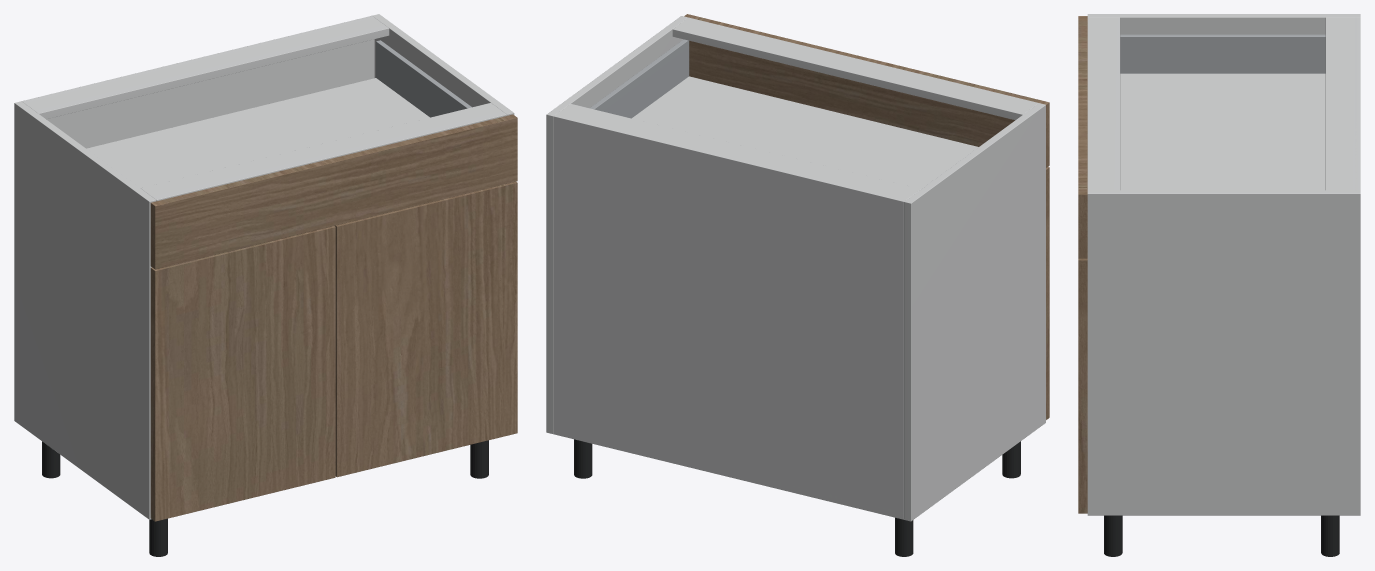
Rendered from oppein-pb-mnw-b36.glb.
The picture shows the model from 3 angles, left to right: view 1: azimuth 30°, elevation 25°; view 2: azimuth 150°, elevation 25°; view 3: azimuth 270°, elevation 25°; orthographic projection.
Parts seen in each view (by area): view 1: Door, Door.001, Cabinet side, Drawer front, Drawer floor, Cabinet back, Top support rail, Top support rail.001, Drawer side.001, Cabinet side.001, Adjustable foot.001, Adjustable foot.003; view 2: Cabinet back, Cabinet side, Drawer floor, Drawer front, Top support rail.001, Cabinet side.001, Top support rail, Drawer side.001, Door, Adjustable foot, Adjustable foot.002; view 3: Cabinet side.001, Drawer floor, Drawer side, Top support rail.001, Top support rail, Cabinet side, Door.001, Drawer front, Cabinet back, Adjustable foot.003, Adjustable foot.002.
Boxes of the visible parts, x1=… form: Door: x1=150, y1=226, x2=335, y2=521; Door.001: x1=335, y1=181, x2=517, y2=477; Cabinet side: x1=14, y1=101, x2=156, y2=519; Drawer front: x1=150, y1=114, x2=517, y2=269; Drawer floor: x1=86, y1=78, x2=429, y2=188; Cabinet back: x1=21, y1=15, x2=374, y2=148; Top support rail: x1=23, y1=17, x2=389, y2=119; Top support rail.001: x1=141, y1=103, x2=506, y2=201; Drawer side.001: x1=376, y1=40, x2=471, y2=117; Cabinet side.001: x1=372, y1=14, x2=514, y2=115; Adjustable foot.001: x1=149, y1=518, x2=167, y2=556; Adjustable foot.003: x1=470, y1=440, x2=488, y2=478; Cabinet back: x1=553, y1=114, x2=905, y2=519; Cabinet side: x1=904, y1=103, x2=1045, y2=521; Drawer floor: x1=632, y1=76, x2=978, y2=188; Drawer front: x1=684, y1=14, x2=1049, y2=167; Top support rail.001: x1=672, y1=17, x2=1038, y2=120; Cabinet side.001: x1=546, y1=16, x2=688, y2=434; Top support rail: x1=556, y1=104, x2=920, y2=199; Drawer side.001: x1=590, y1=39, x2=689, y2=118; Door: x1=1046, y1=167, x2=1049, y2=419; Adjustable foot: x1=895, y1=517, x2=913, y2=556; Adjustable foot.002: x1=574, y1=439, x2=592, y2=478; Cabinet side.001: x1=1087, y1=190, x2=1360, y2=515; Drawer floor: x1=1120, y1=73, x2=1325, y2=190; Drawer side: x1=1120, y1=34, x2=1325, y2=73; Top support rail.001: x1=1087, y1=17, x2=1120, y2=190; Top support rail: x1=1325, y1=17, x2=1357, y2=190; Cabinet side: x1=1087, y1=14, x2=1360, y2=34; Door.001: x1=1078, y1=258, x2=1087, y2=513; Drawer front: x1=1078, y1=16, x2=1087, y2=258; Cabinet back: x1=1355, y1=17, x2=1360, y2=190; Adjustable foot.003: x1=1104, y1=515, x2=1122, y2=556; Adjustable foot.002: x1=1321, y1=515, x2=1339, y2=556.
Size of the model in its own units: 0.9144 by 0.8763 by 0.6064.
4 materials, 1 textured.
